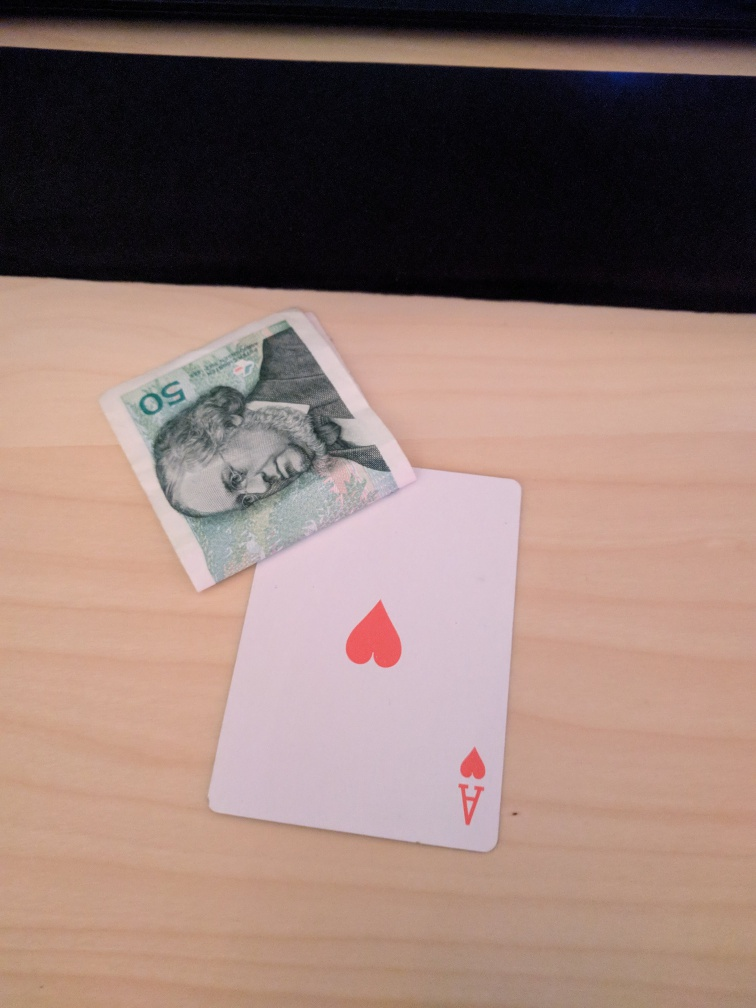ace: (207, 465, 524, 852)
